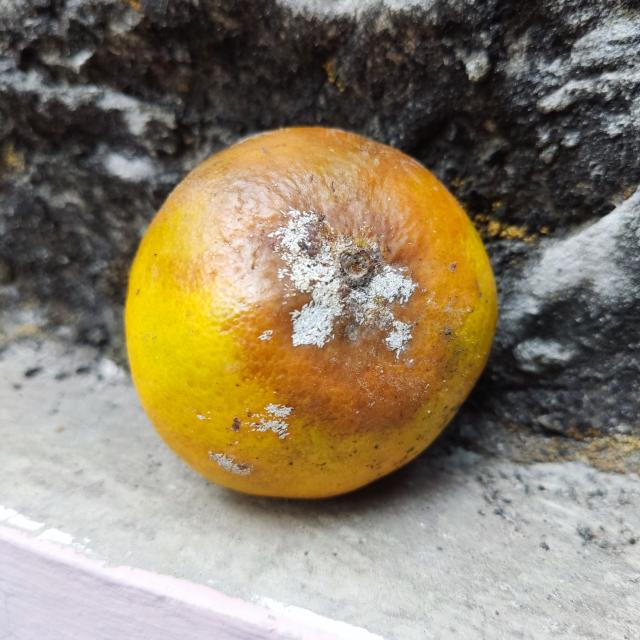orange: (124, 125, 499, 500)
